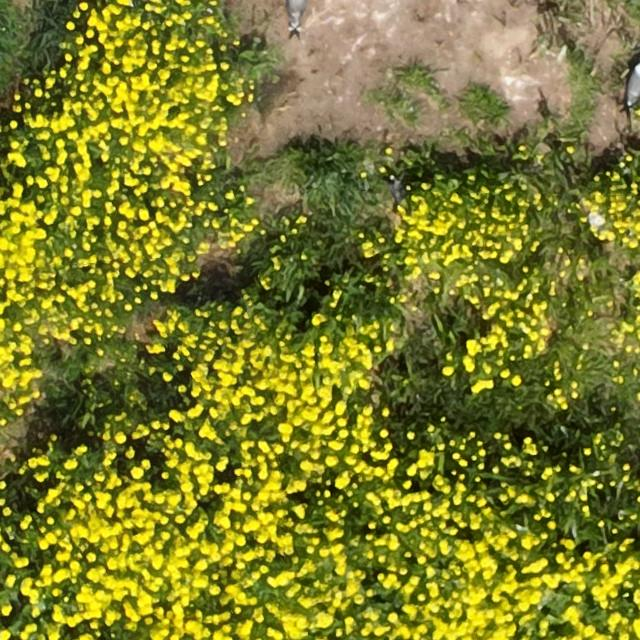umineko: (626, 64, 639, 102), (289, 1, 305, 28)
